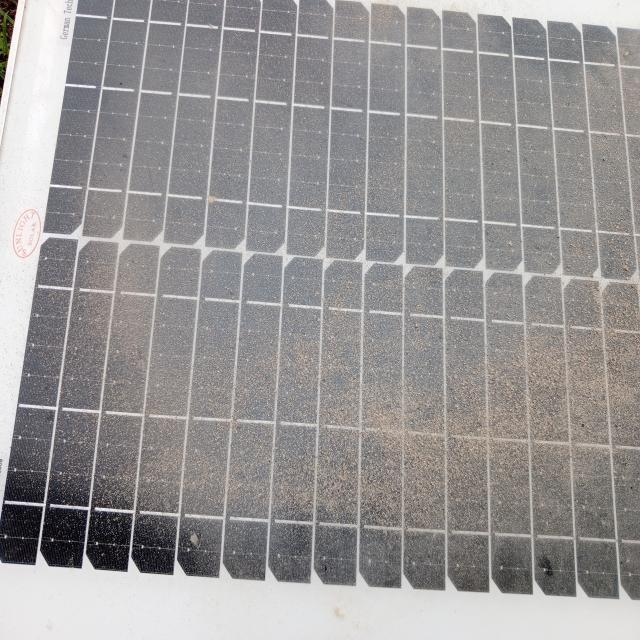Anomaly Solar Panel: (16, 6, 614, 586)
Surface Contaminant: (53, 27, 613, 586)
